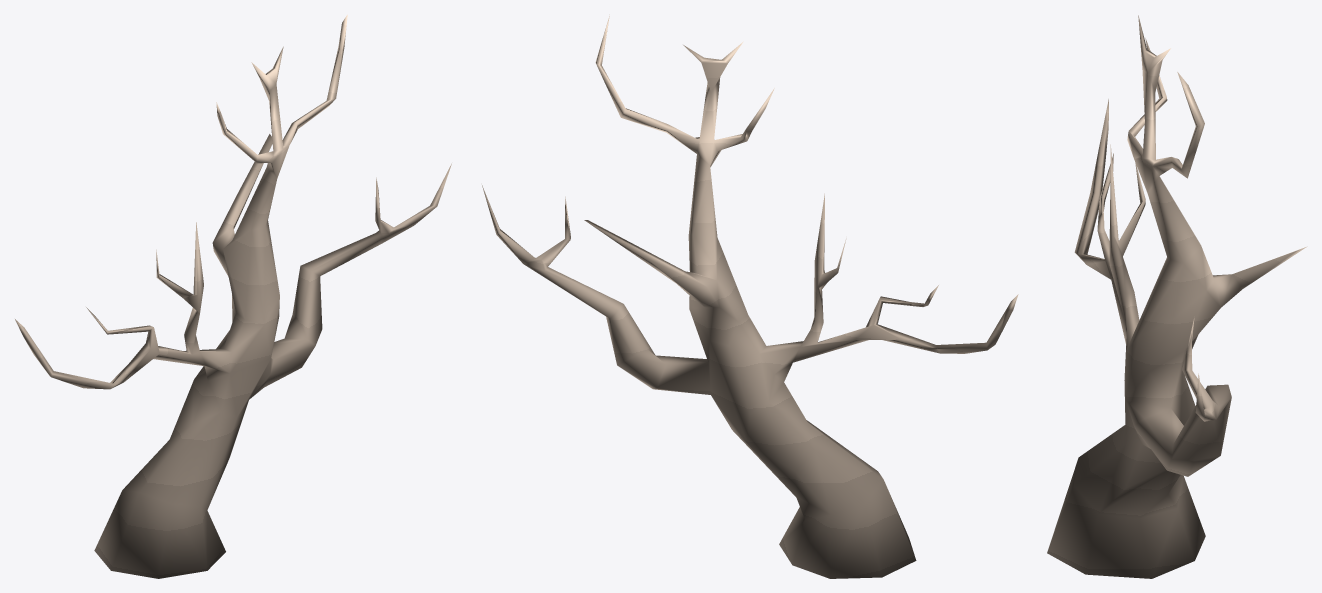
The model's file is Prefab_Foliage_Tree_Willow_Trunk_B.glb.
The picture shows the model from 3 angles, left to right: view 1: azimuth 30°, elevation 25°; view 2: azimuth 150°, elevation 25°; view 3: azimuth 270°, elevation 25°; orthographic projection. The views are drawn at different scales.
Visible parts, largest first — view 1: WillowTree_A_Trunk.001; view 2: WillowTree_A_Trunk.001; view 3: WillowTree_A_Trunk.001.
Boxes of the visible parts, box(x1,y1,x2,y2) form: WillowTree_A_Trunk.001: box(15, 14, 451, 578); WillowTree_A_Trunk.001: box(482, 14, 1018, 578); WillowTree_A_Trunk.001: box(1047, 15, 1307, 578).
Bounding box in the file's own units: 9.54 × 9.11 × 3.58.
1 material, 1 textured.
